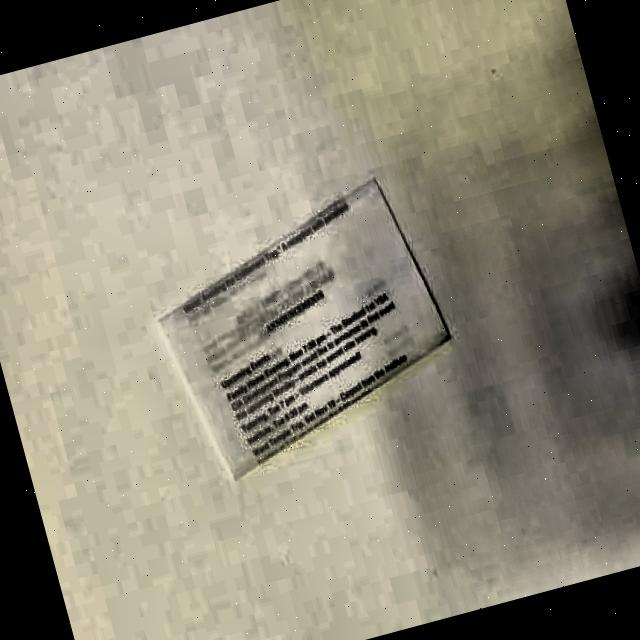paper: (140, 161, 476, 486)
